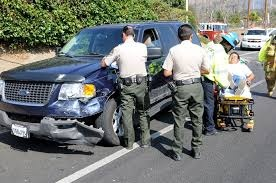Dent: (41, 89, 109, 151)
